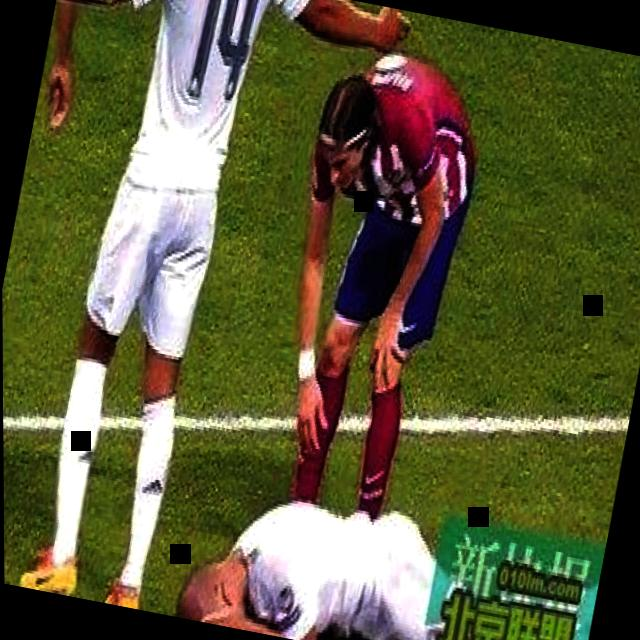Fall-Detected: (165, 441, 512, 640)
